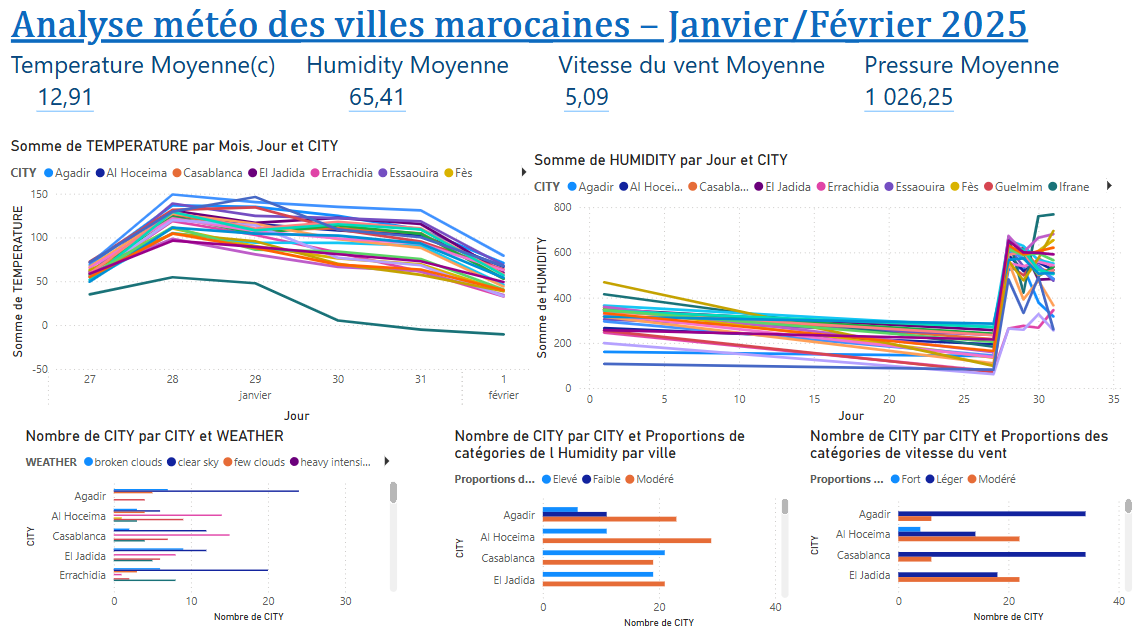

The dashboard page shown, as its layout file describes it:
{"tool":"powerbi","page":{"name":"Page 1","canvas":[1280,720],"ordinal":0},"visuals":[{"type":"textbox","box":[10,48.6,311.4,120],"z":0},{"type":"textbox","box":[10,0,1142.9,62.9],"z":1000},{"type":"textbox","box":[9.9,290.1,280.2,103],"z":2000},{"type":"textbox","box":[338.6,48.6,252.9,104.3],"z":3000},{"type":"textbox","box":[958.6,48.6,275.7,88.6],"z":4000},{"type":"textbox","box":[618.6,48.6,324.3,104.3],"z":5000},{"type":"lineChart","fields":{"Y":["Sum(Requête1.TEMPERATURE)"],"Series":["Requête1.CITY"],"Category":["Requête1.DATE_.Variation.Hiérarchie de dates.Mois","Requête1.DATE_.Variation.Hiérarchie de dates.Jour"]},"box":[10,153.3,595,321.7],"z":6000},{"type":"lineChart","fields":{"Y":["Sum(Requête1.HUMIDITY)"],"Category":["Requête1.DATE_.Variation.Hiérarchie de dates.Jour"],"Series":["Requête1.CITY"]},"box":[591.7,168.3,663.3,306.7],"z":7000},{"type":"clusteredBarChart","fields":{"Category":["Requête1.CITY"],"Y":["CountNonNull(Requête1.CITY)"],"Series":["Requête1.HUMIDITY_CATEGORY"]},"box":[503.3,475,381.7,228.3],"z":10000},{"type":"clusteredBarChart","fields":{"Category":["Requête1.CITY"],"Y":["CountNonNull(Requête1.CITY)"],"Series":["Requête1.WIND_SPEED_CATEGORY"]},"box":[898.3,475,368.3,221.7],"z":10001},{"type":"clusteredBarChart","fields":{"Y":["CountNonNull(Requête1.CITY)"],"Category":["Requête1.CITY"],"Series":["Requête1.WEATHER"]},"box":[26.7,475,423.3,221.7],"z":10002}]}

Visuals, with their boxes in screenshot pixels (x1, y1, x2, y2), scaled from the page's 1280x720 canvas onto the 1144x643 screenshot:
textbox: 9,43,287,151
textbox: 9,0,1030,56
textbox: 9,259,259,351
textbox: 303,43,529,137
textbox: 857,43,1103,123
textbox: 553,43,843,137
lineChart - Sum(Requête1.TEMPERATURE) x Requête1.CITY: 9,137,541,424
lineChart - Sum(Requête1.HUMIDITY) x Requête1.DATE_.Variation.Hiérarchie de dates.Jour: 529,150,1122,424
clusteredBarChart - Requête1.CITY x CountNonNull(Requête1.CITY): 450,424,791,628
clusteredBarChart - Requête1.CITY x CountNonNull(Requête1.CITY): 803,424,1132,622
clusteredBarChart - CountNonNull(Requête1.CITY) x Requête1.CITY: 24,424,402,622
